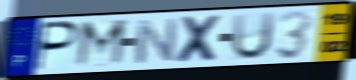3: (274, 8, 318, 61)
M: (72, 18, 130, 70)
N: (133, 17, 179, 66)
P: (32, 20, 81, 73)
U: (229, 10, 278, 62)
X: (174, 13, 225, 65)
